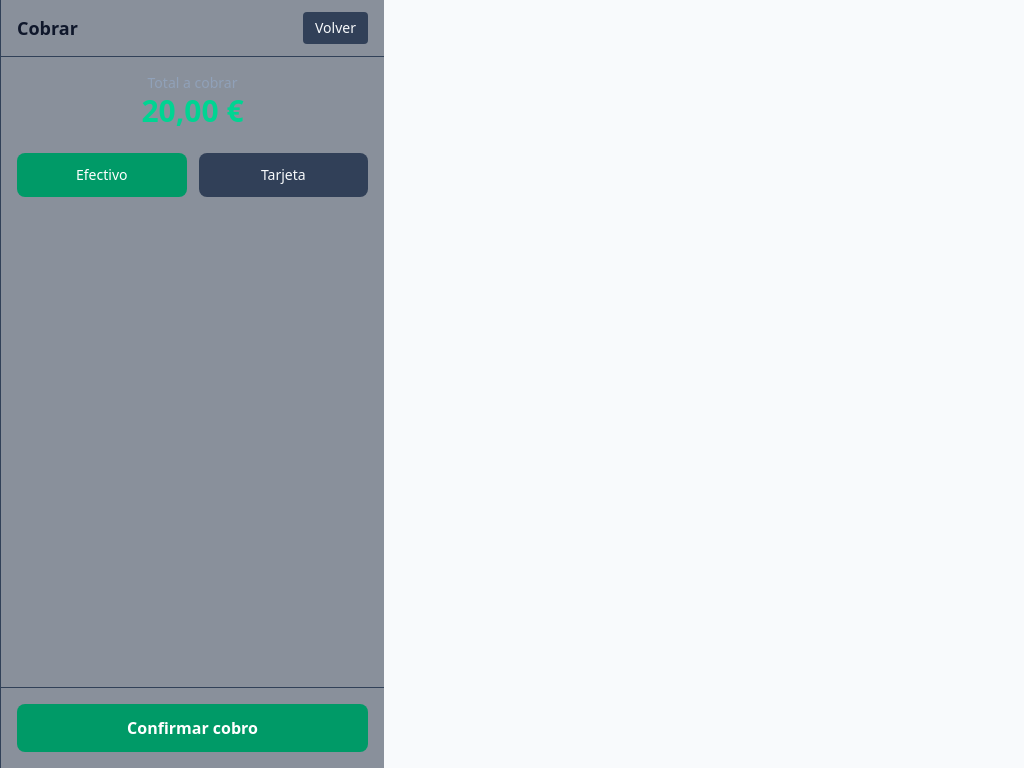
Test: Checkout › lets the cashier enter cash with the auxiliary keypad
The image size is (1024, 768).
Click the button "Efectivo": (102, 175) x1=17 y1=153 x2=186 y2=197
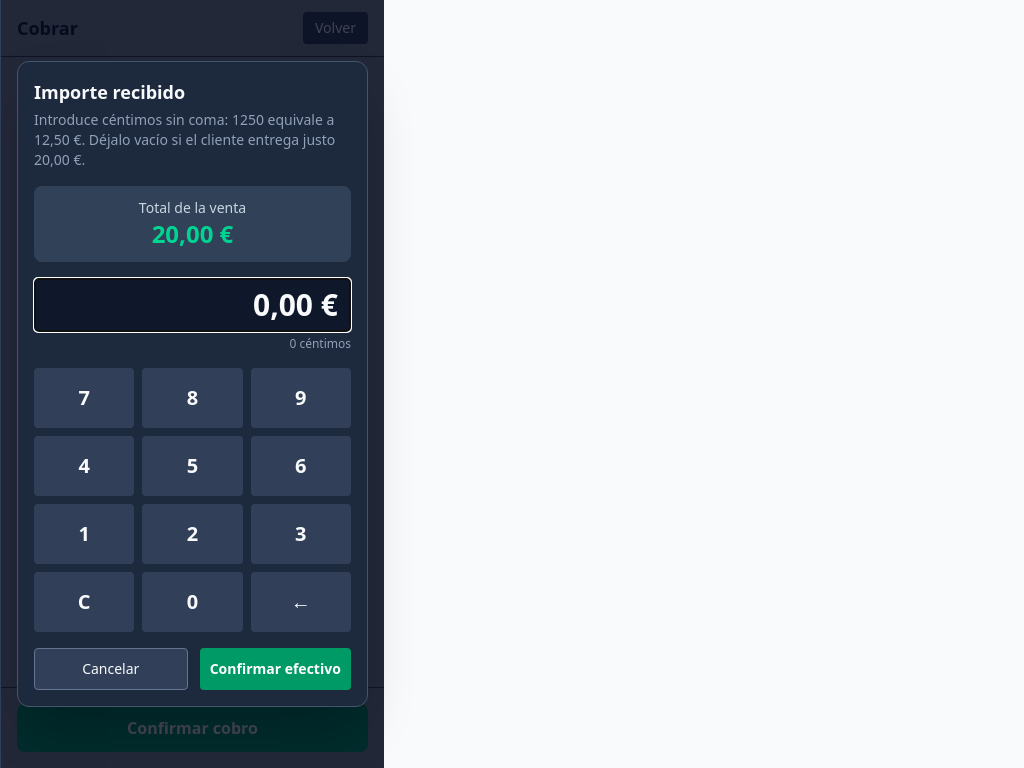
Note: No hay un total precargado que borrar: el teclado empieza vacío y recibe céntimos.
Click the button "5": (192, 466) x1=142 y1=436 x2=243 y2=496
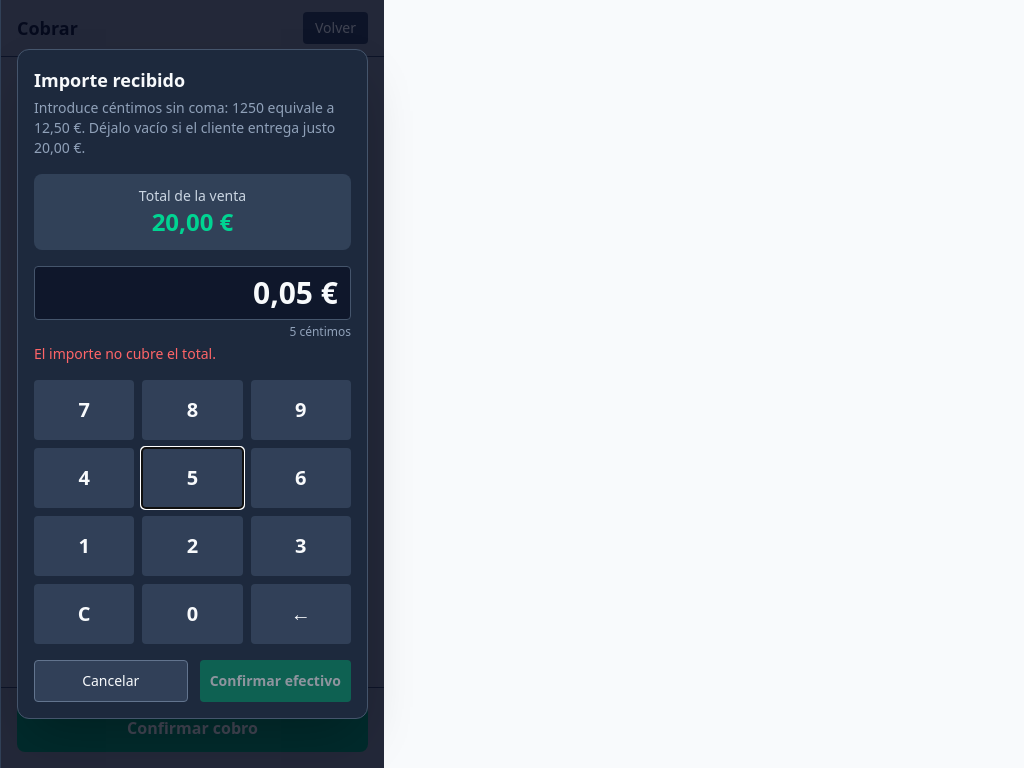
Click the button "0": (192, 614) x1=142 y1=584 x2=243 y2=644
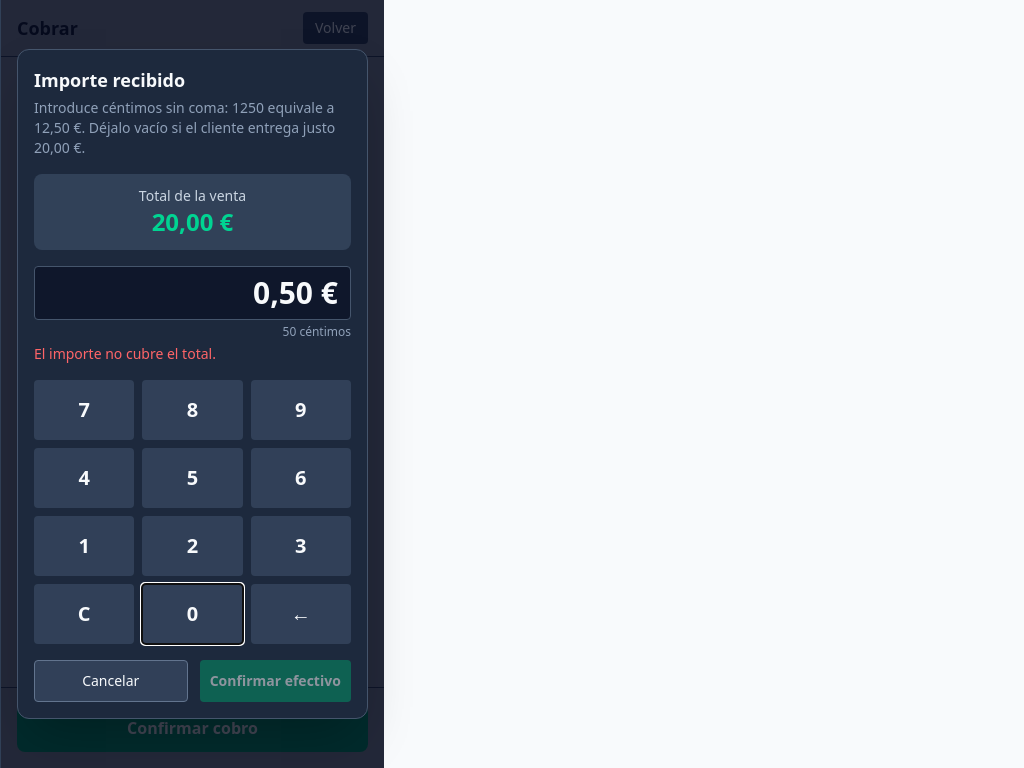
Expected: the field named "Importe recibido" holds "0,50 €", x1=34 y1=266 x2=351 y2=320
Expected: the text "50 céntimos" is shown, x1=282 y1=323 x2=351 y2=340
